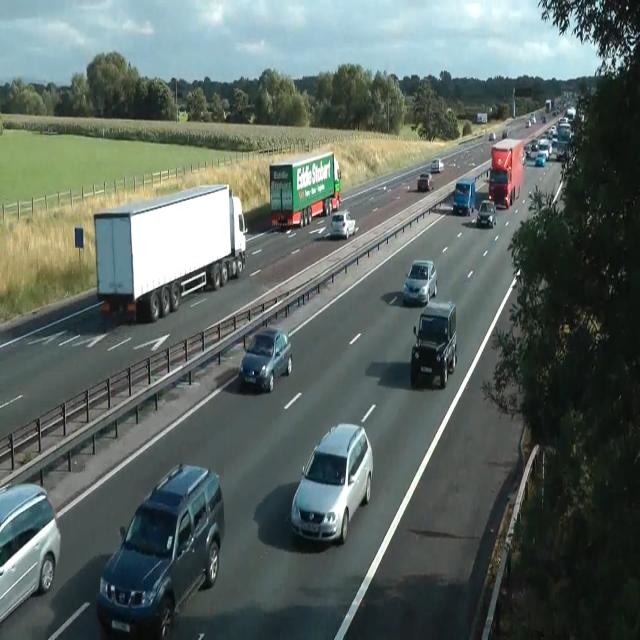bus: (0, 482, 61, 623), (238, 326, 292, 393), (403, 258, 437, 306), (331, 210, 357, 239), (476, 199, 496, 228), (417, 173, 434, 191), (430, 158, 444, 174), (534, 151, 546, 166), (530, 112, 536, 124), (488, 132, 496, 140), (540, 115, 546, 124), (525, 120, 531, 127), (502, 130, 507, 138)
jeep: (96, 462, 225, 636), (290, 421, 373, 545), (410, 298, 457, 388)
minibus: (93, 182, 247, 324), (269, 150, 341, 230), (488, 138, 525, 209), (453, 176, 475, 215), (477, 112, 488, 124), (544, 99, 552, 112)
